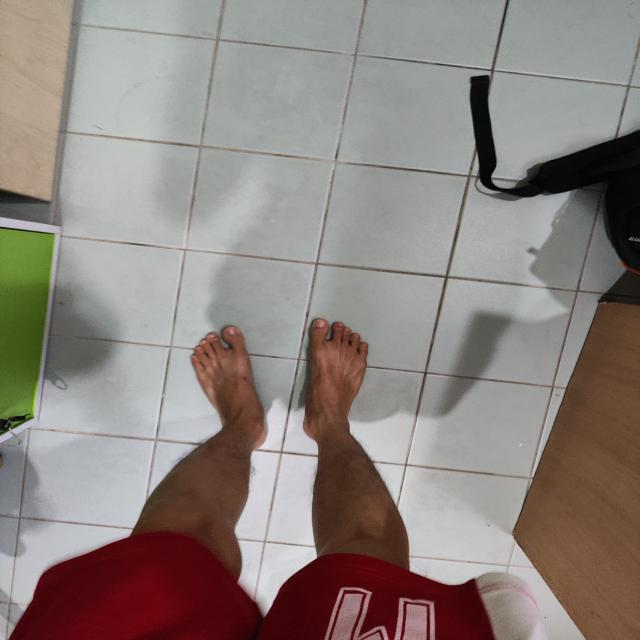No_Shoes: (285, 308, 413, 450), (184, 309, 266, 457)
